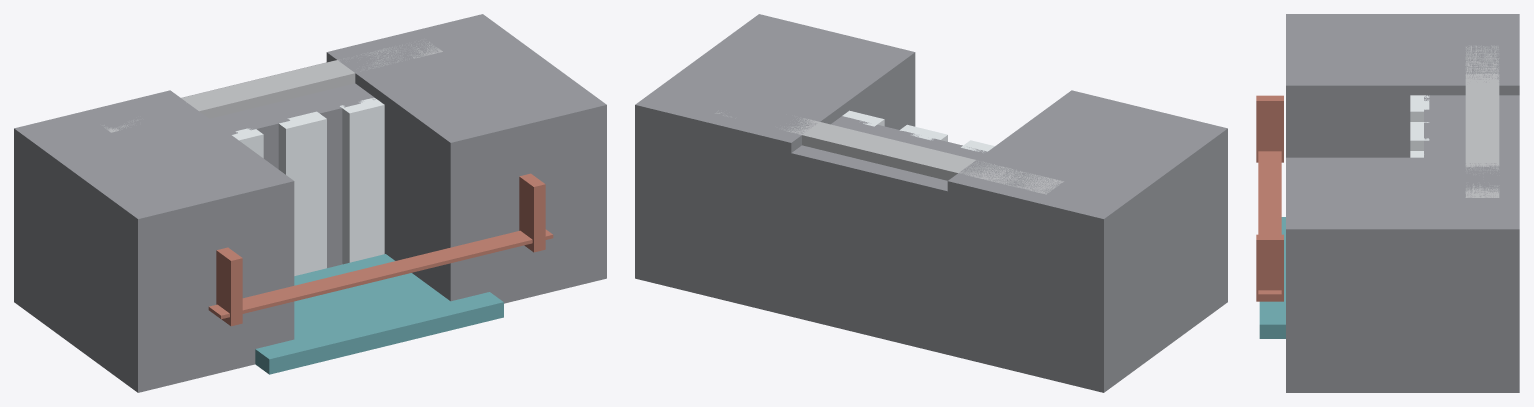
The model's file is lm_113_thac_lien_khuong_vach_da_bazan_rong_200m_va_cau_treo_da_nhim.glb.
3 views of the same model, side by side, from view 1: azimuth 30°, elevation 25°; view 2: azimuth 150°, elevation 25°; view 3: azimuth 270°, elevation 25° (orthographic). The views are drawn at different scales.
Visible parts, largest first — view 1: lm_113_thac_lien_khuong_vach_da_bazan_rong_200m_va_cau_treo_; view 2: lm_113_thac_lien_khuong_vach_da_bazan_rong_200m_va_cau_treo_; view 3: lm_113_thac_lien_khuong_vach_da_bazan_rong_200m_va_cau_treo_.
Boxes of the visible parts, x1=… form: lm_113_thac_lien_khuong_vach_da_bazan_rong_200m_va_cau_treo_: x1=14, y1=14, x2=606, y2=392; lm_113_thac_lien_khuong_vach_da_bazan_rong_200m_va_cau_treo_: x1=635, y1=14, x2=1227, y2=392; lm_113_thac_lien_khuong_vach_da_bazan_rong_200m_va_cau_treo_: x1=1256, y1=14, x2=1519, y2=392.
Bounding box in the file's own units: 48 × 17 × 24.8.
